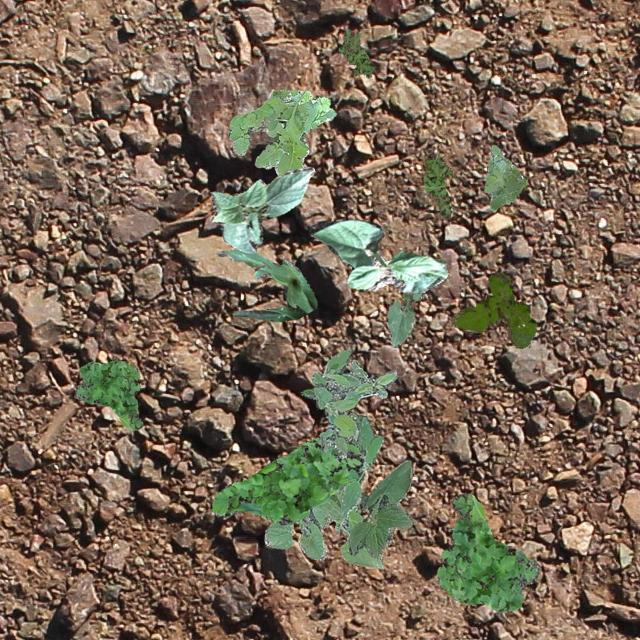crop: (308, 218, 447, 292), (264, 486, 382, 568), (210, 165, 314, 252), (215, 248, 317, 320), (348, 460, 414, 558), (386, 290, 422, 346)
weed: (212, 436, 362, 524), (436, 494, 540, 612), (300, 348, 396, 458), (226, 89, 334, 174), (450, 272, 536, 348), (74, 360, 142, 430), (339, 412, 382, 516), (482, 143, 526, 210), (422, 152, 452, 218), (338, 28, 373, 76), (356, 492, 366, 514)
